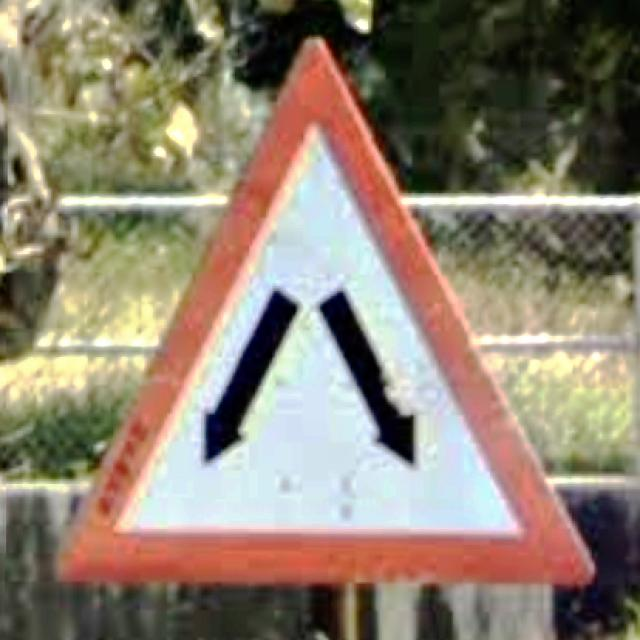diverge: (56, 39, 597, 589)
